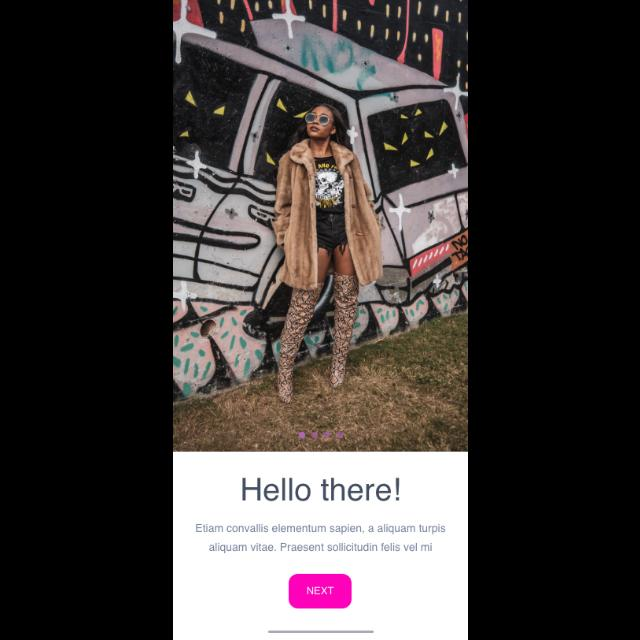image: (173, 1, 467, 451)
pageindicator: (299, 432, 343, 438)
text: (195, 524, 445, 554), (242, 476, 400, 502)
textbutton: (288, 574, 352, 610)
